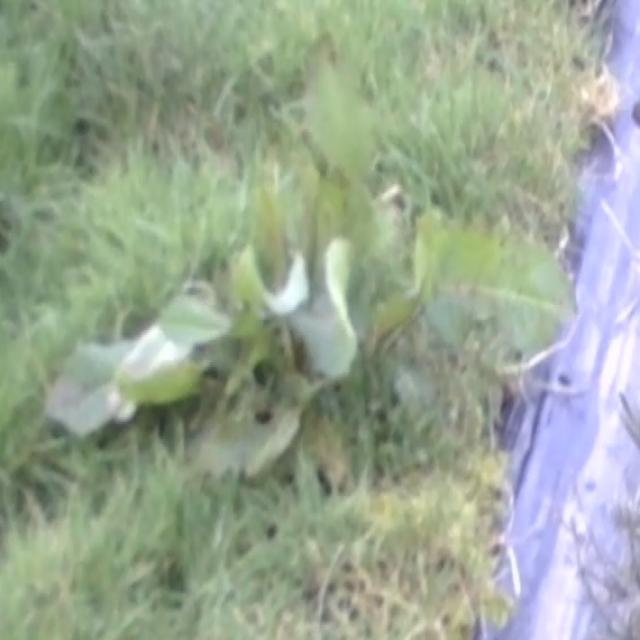organic waste: (24, 89, 619, 452)
